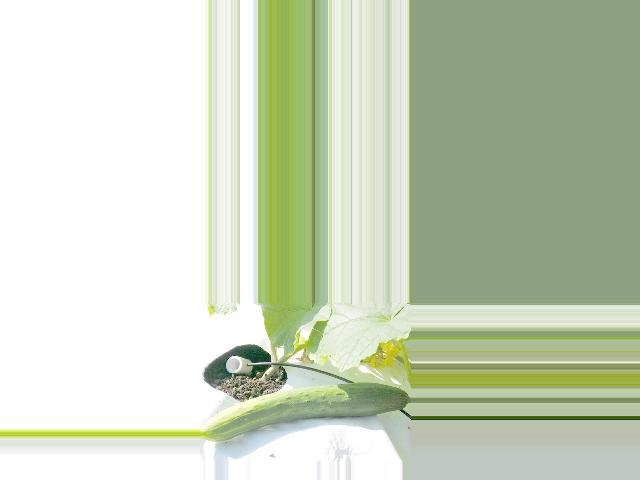cucumber: (198, 383, 410, 442)
